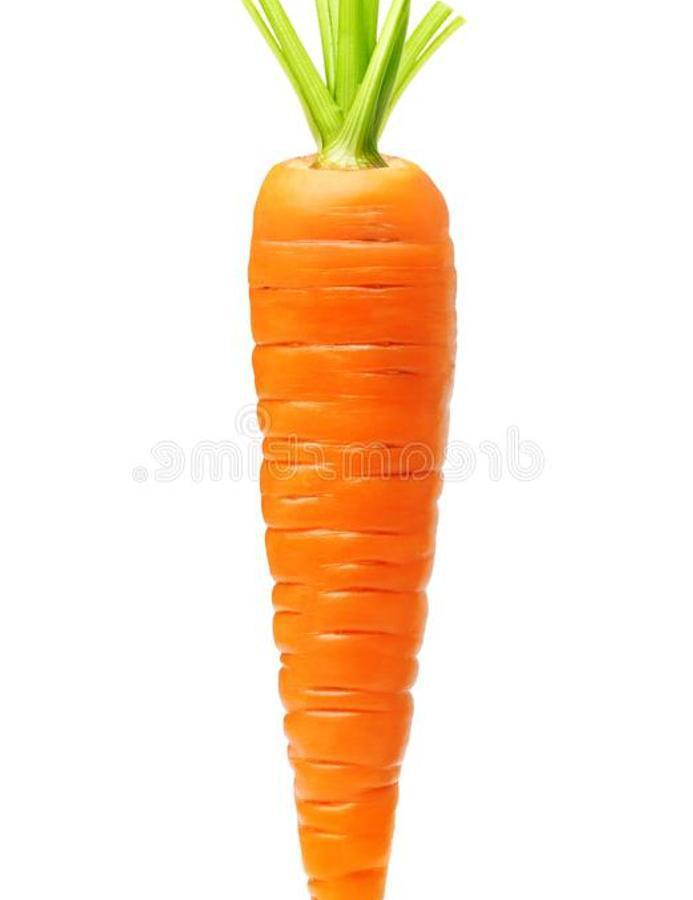carrot: (203, 9, 502, 900)
